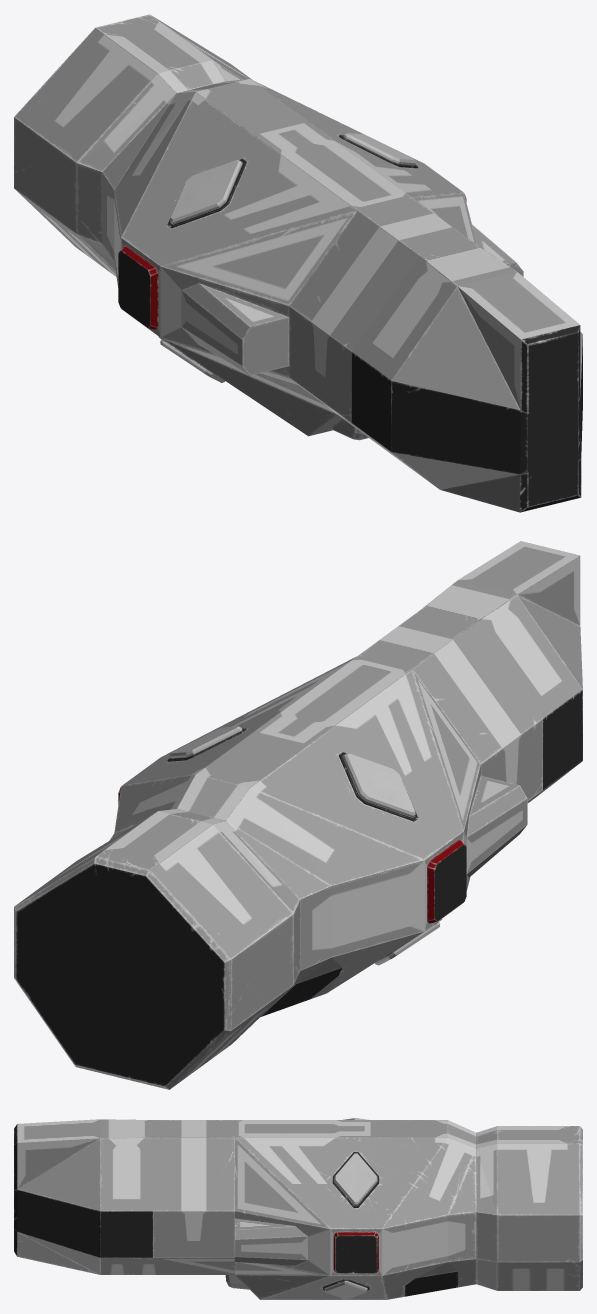
Rendered from CV_Pskella_Collider.fbx.
3 views of the same model, one above another, from view 1: azimuth 30°, elevation 25°; view 2: azimuth 150°, elevation 25°; view 3: azimuth 270°, elevation 25° (orthographic). The views are drawn at different scales.
Visible parts, largest first — view 1: Collider.006, Collider.004, Collider.023, Collider.005, Collider.002, Collider.001, Collider.022, Collider.011, Collider.017, Collider.028, Collider.008, Collider.003 (+3 smaller); view 2: Collider.023, Collider.006, Collider.005, Collider.004, Collider.002, Collider.007, Collider.001, Collider.008, Collider.017, Collider.028, Collider.022, Collider.018 (+1 smaller); view 3: Collider.006, Collider.004, Collider.023, Collider.005, Collider.002, Collider.011, Collider.001, Collider.008, Collider.022, Collider.016, Collider.007, Collider.026 (+8 smaller).
Boxes of the visible parts, x1,y1,x2,y2 form: Collider.006: (114, 79, 476, 377); Collider.004: (351, 243, 582, 489); Collider.023: (14, 14, 251, 276); Collider.005: (289, 197, 473, 457); Collider.002: (457, 271, 581, 512); Collider.001: (181, 224, 523, 375); Collider.022: (76, 94, 175, 261); Collider.011: (161, 338, 341, 436); Collider.017: (118, 238, 158, 329); Collider.028: (170, 160, 242, 223); Collider.008: (102, 94, 175, 261); Collider.003: (440, 474, 519, 512); Collider.023: (14, 809, 293, 1089); Collider.006: (114, 656, 480, 957); Collider.005: (358, 610, 542, 801); Collider.004: (420, 580, 582, 803); Collider.002: (458, 541, 580, 625); Collider.007: (115, 774, 330, 885); Collider.001: (466, 776, 527, 877); Collider.008: (109, 821, 331, 970); Collider.017: (425, 839, 466, 923); Collider.028: (343, 753, 415, 817); Collider.022: (226, 821, 300, 984); Collider.018: (261, 967, 342, 1016); Collider.006: (235, 1120, 447, 1275); Collider.004: (17, 1119, 152, 1274); Collider.023: (476, 1126, 582, 1290); Collider.005: (153, 1120, 234, 1274); Collider.002: (14, 1119, 100, 1256); Collider.011: (235, 1275, 404, 1299); Collider.001: (235, 1218, 307, 1265); Collider.008: (448, 1149, 476, 1261); Collider.022: (476, 1149, 497, 1283); Collider.016: (333, 1232, 378, 1273); Collider.007: (448, 1120, 476, 1214); Collider.026: (334, 1153, 377, 1205).
Size of the model in its own units: 364 by 863 by 264.
